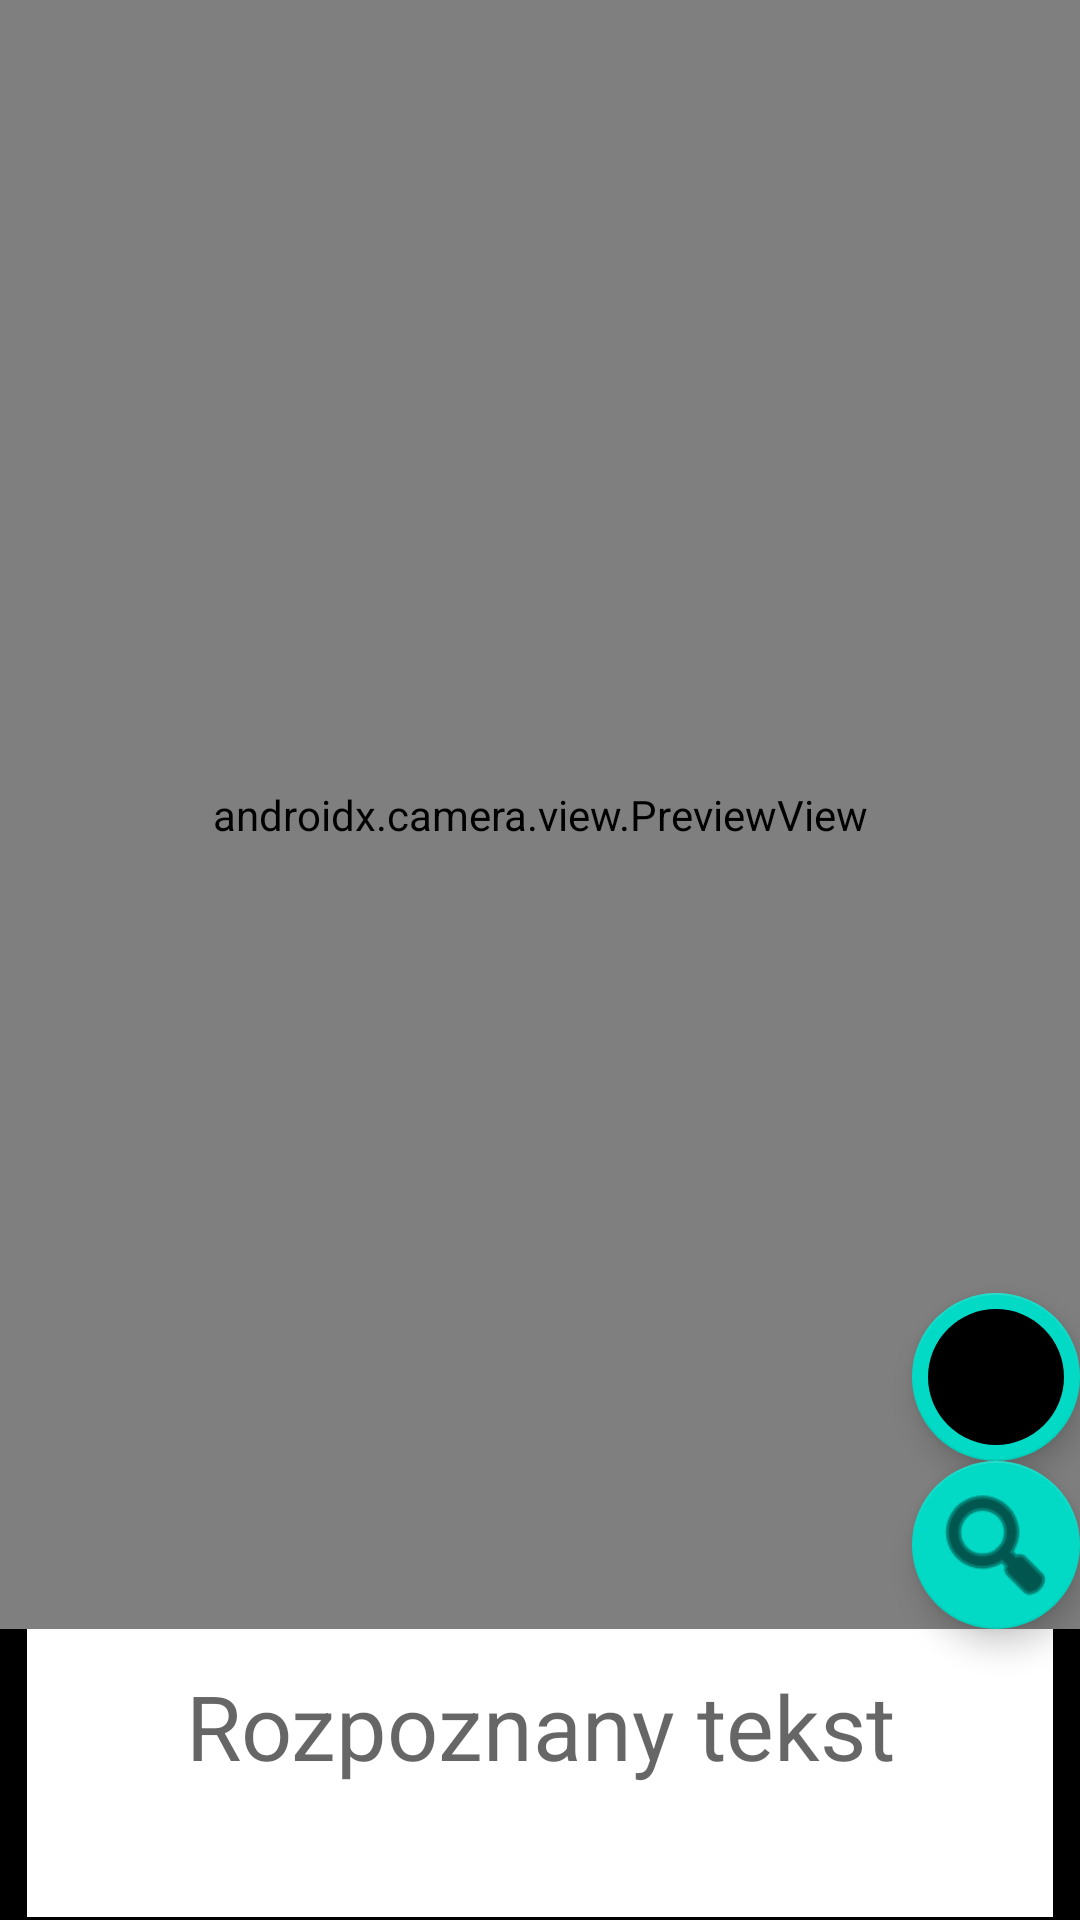

Where to tap for icons on this 1080 × 1920 app screen, as point (x, y):
search: point (996, 1545)
